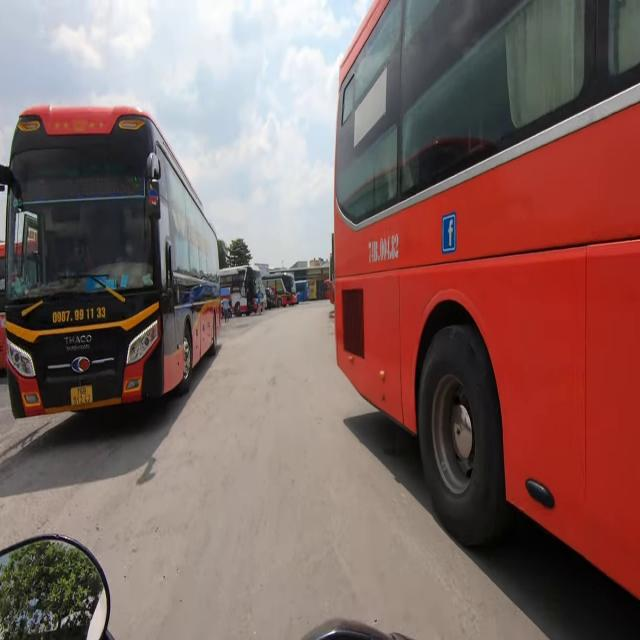bien_vang: (71, 383, 93, 408)
